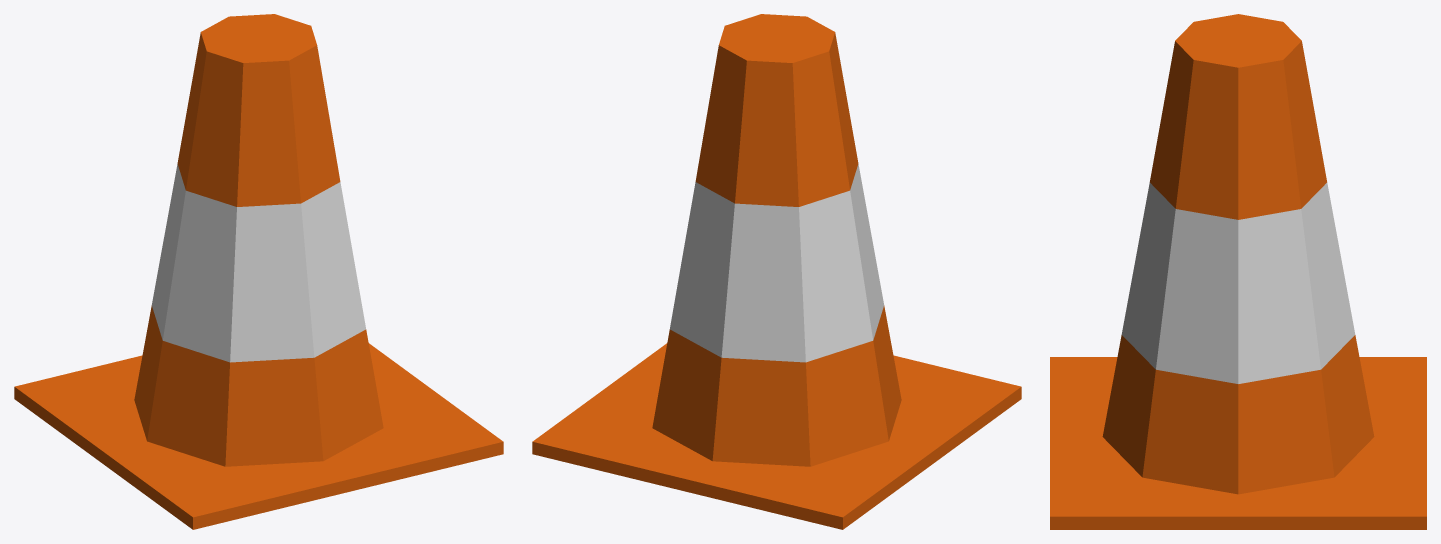
Rendered from conecCenter.fbx.
3 renders of one model, left to right at view 1: azimuth 30°, elevation 25°; view 2: azimuth 150°, elevation 25°; view 3: azimuth 270°, elevation 25°, orthographic. The views are drawn at different scales.
Visible parts, largest first — view 1: Cube.003; view 2: Cube.003; view 3: Cube.003.
Boxes of the visible parts, x1=… form: Cube.003: x1=14, y1=14, x2=503, y2=529; Cube.003: x1=532, y1=14, x2=1021, y2=529; Cube.003: x1=1050, y1=14, x2=1426, y2=529.
Size of the model in its own units: 24.47 by 29.24 by 24.4.
